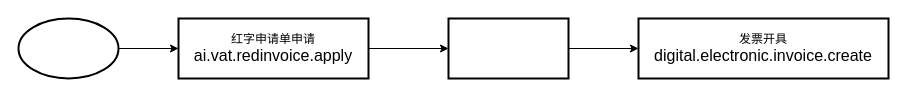
This 906x96 diagram has some shape labels left out. Here are the shapes that lost their labels. From the top down, the centre of each, then its label:
At (68,48): "数电发票冲红".
At (508,48): "红字申请单确认 ai.vat.redInfo.confirm".
